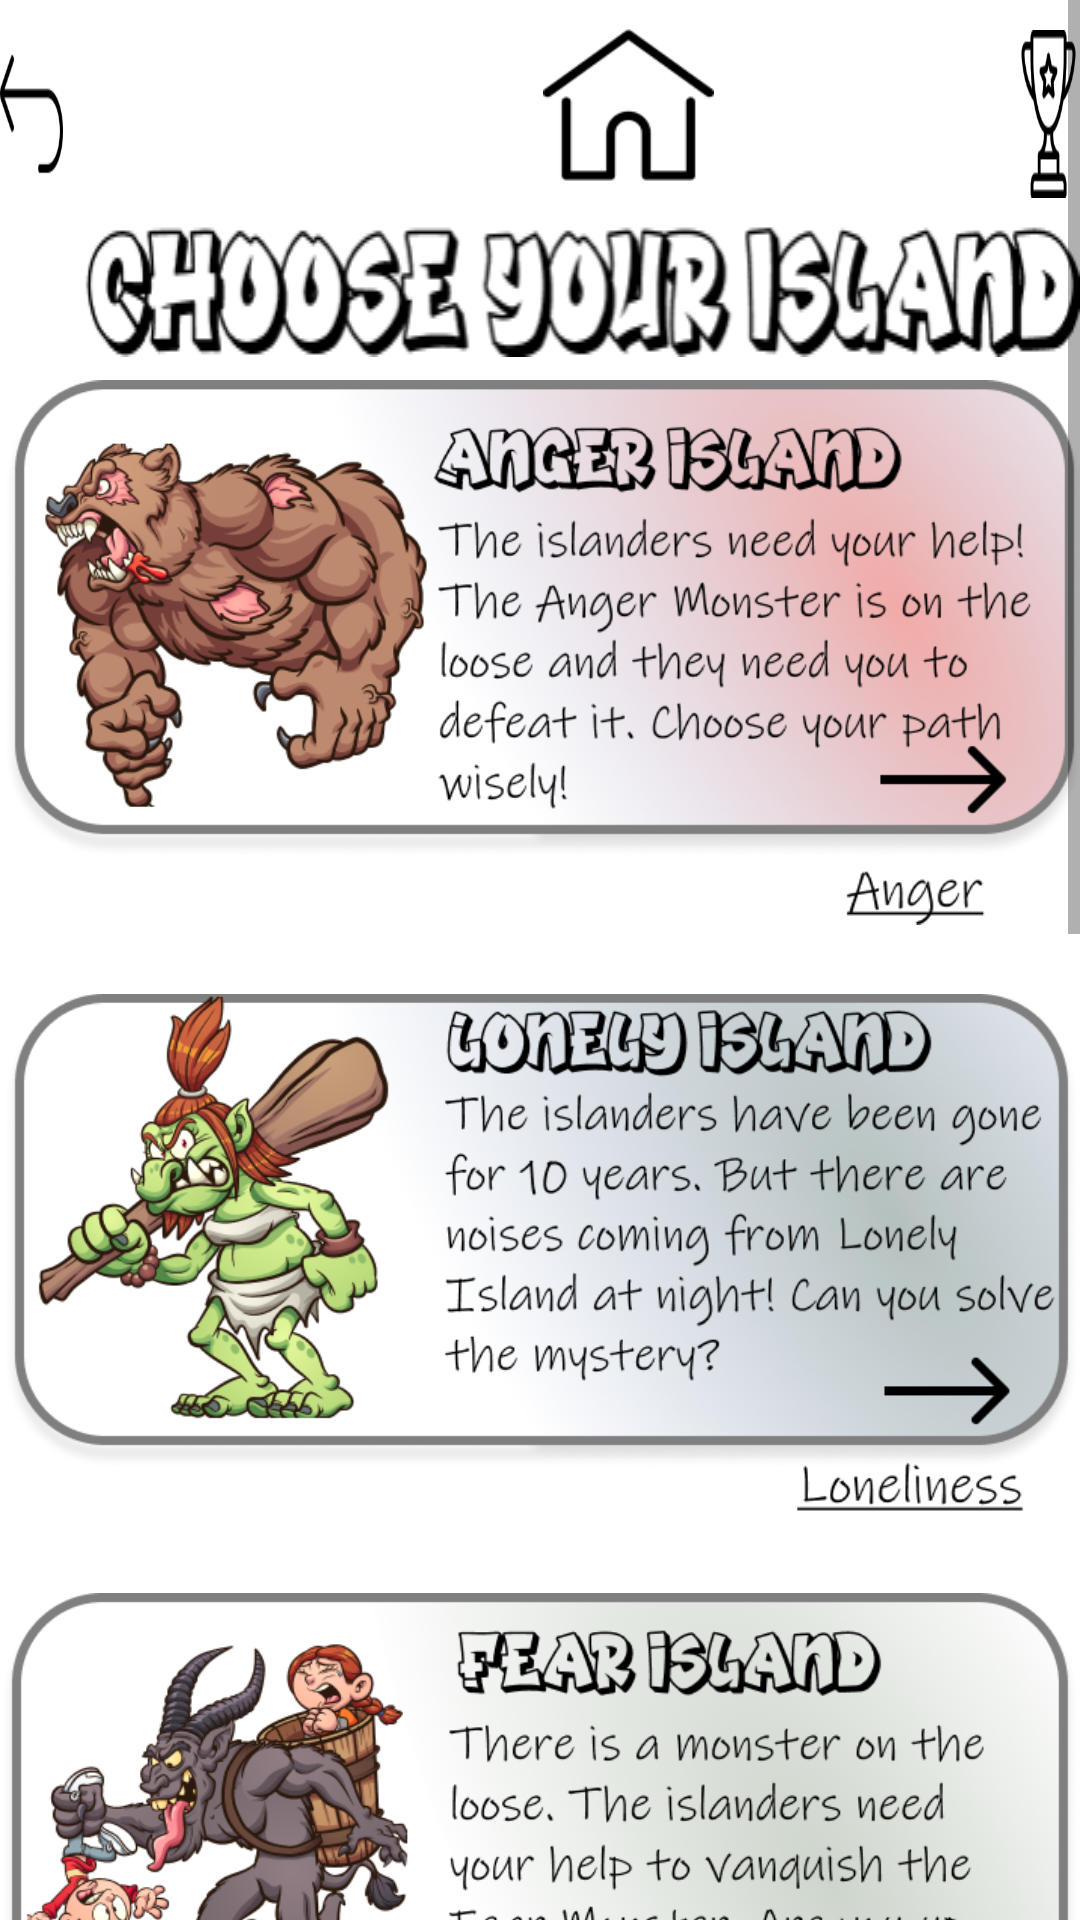

Screen size 1080w x 1920h. Icon name, then its box in pixels as bbox=[x1, y1, x2, y2]:
home: bbox=[543, 29, 714, 181]
trophy: bbox=[1021, 30, 1080, 198]
